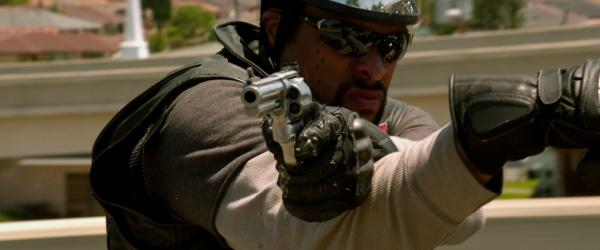Gun: (242, 63, 313, 168)
